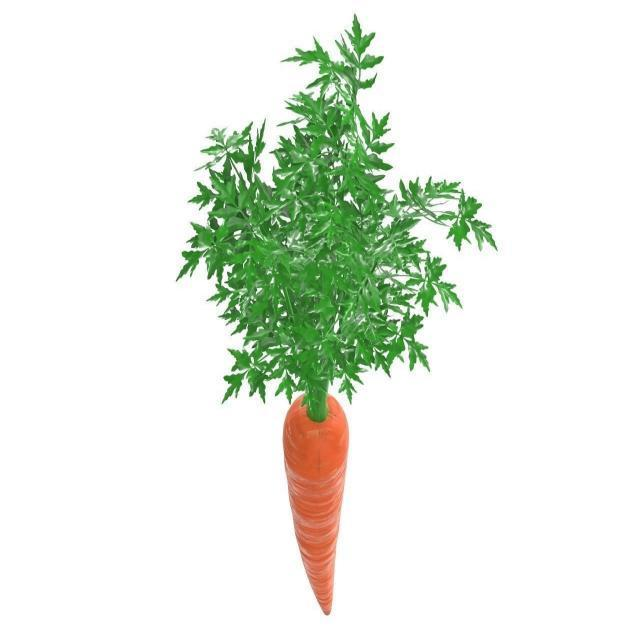carrot: (282, 389, 348, 623)
